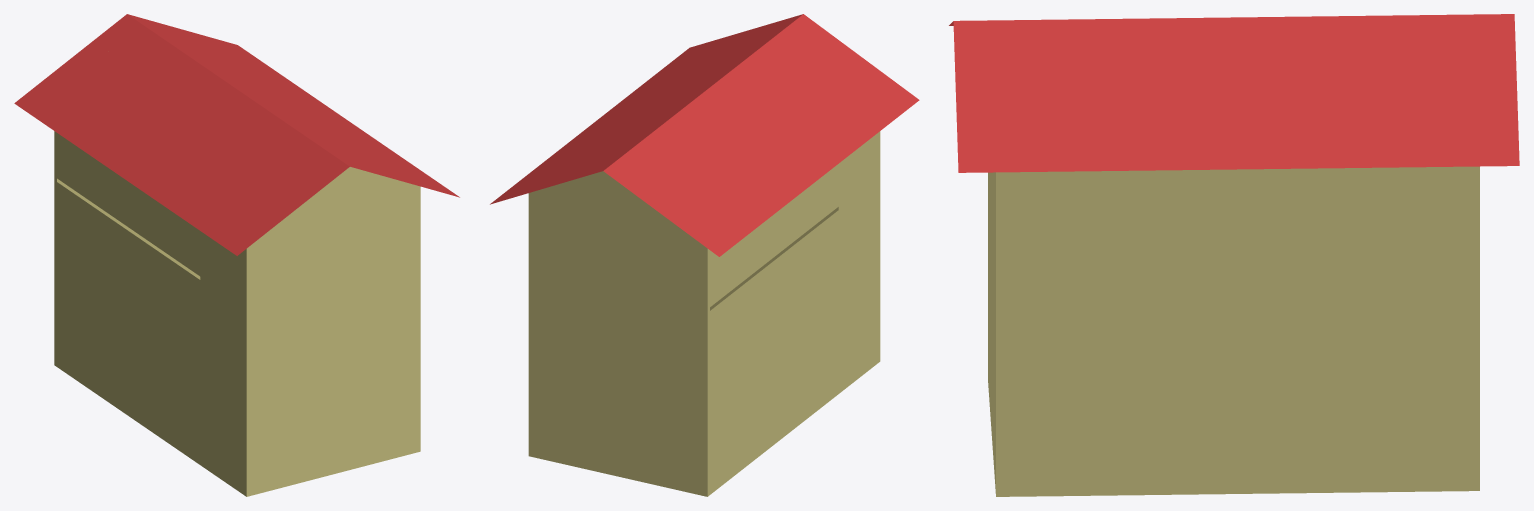
3 views of the same model, side by side, from view 1: azimuth 30°, elevation 25°; view 2: azimuth 150°, elevation 25°; view 3: azimuth 270°, elevation 25° (orthographic). The views are drawn at different scales.
Size of the model in its own units: 7.05 by 11.07 by 8.99.
